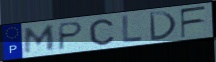C: (88, 18, 116, 47)
D: (148, 10, 179, 42)
F: (179, 5, 208, 39)
L: (121, 14, 144, 44)
M: (23, 24, 56, 55)
P: (57, 21, 85, 52)
